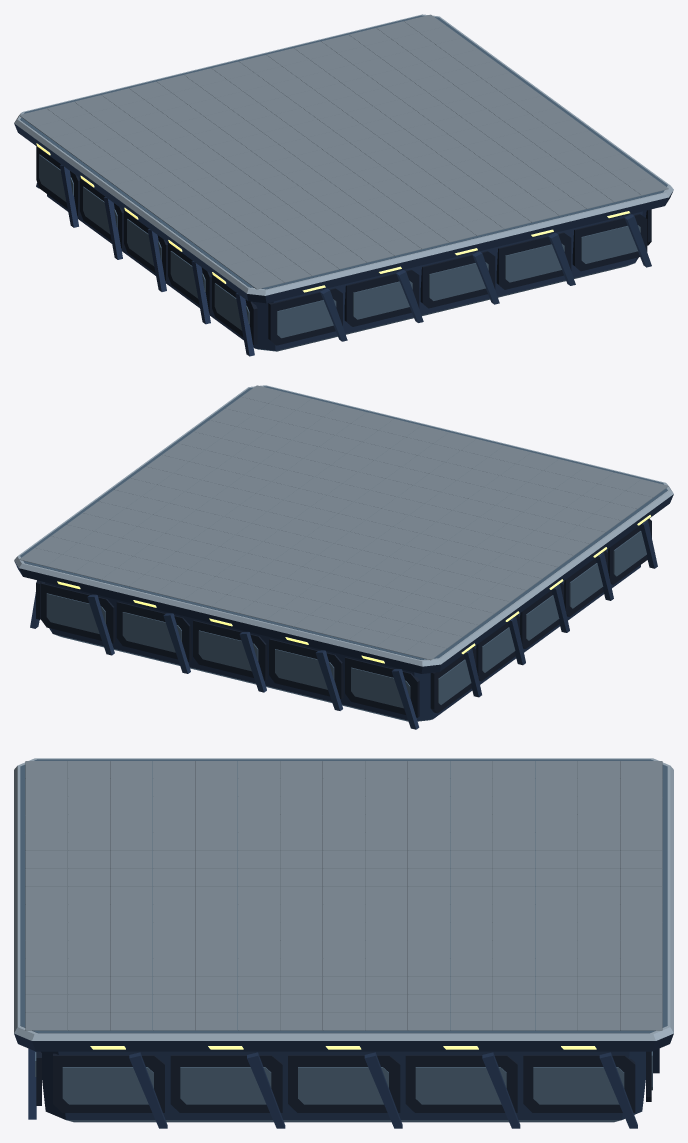
File: station-deck.glb
The picture shows the model from 3 angles, top to bottom: view 1: azimuth 30°, elevation 25°; view 2: azimuth 150°, elevation 25°; view 3: azimuth 270°, elevation 25°; orthographic projection. The views are drawn at different scales.
Parts seen in each view (by area): view 1: station-deck; view 2: station-deck; view 3: station-deck.
Boxes of the visible parts, x1,y1,x2,y2 form: station-deck: (14, 14, 673, 356); station-deck: (14, 385, 673, 729); station-deck: (14, 758, 673, 1128).
Bounding box in the file's own units: 20.2 × 3.53 × 20.2.
